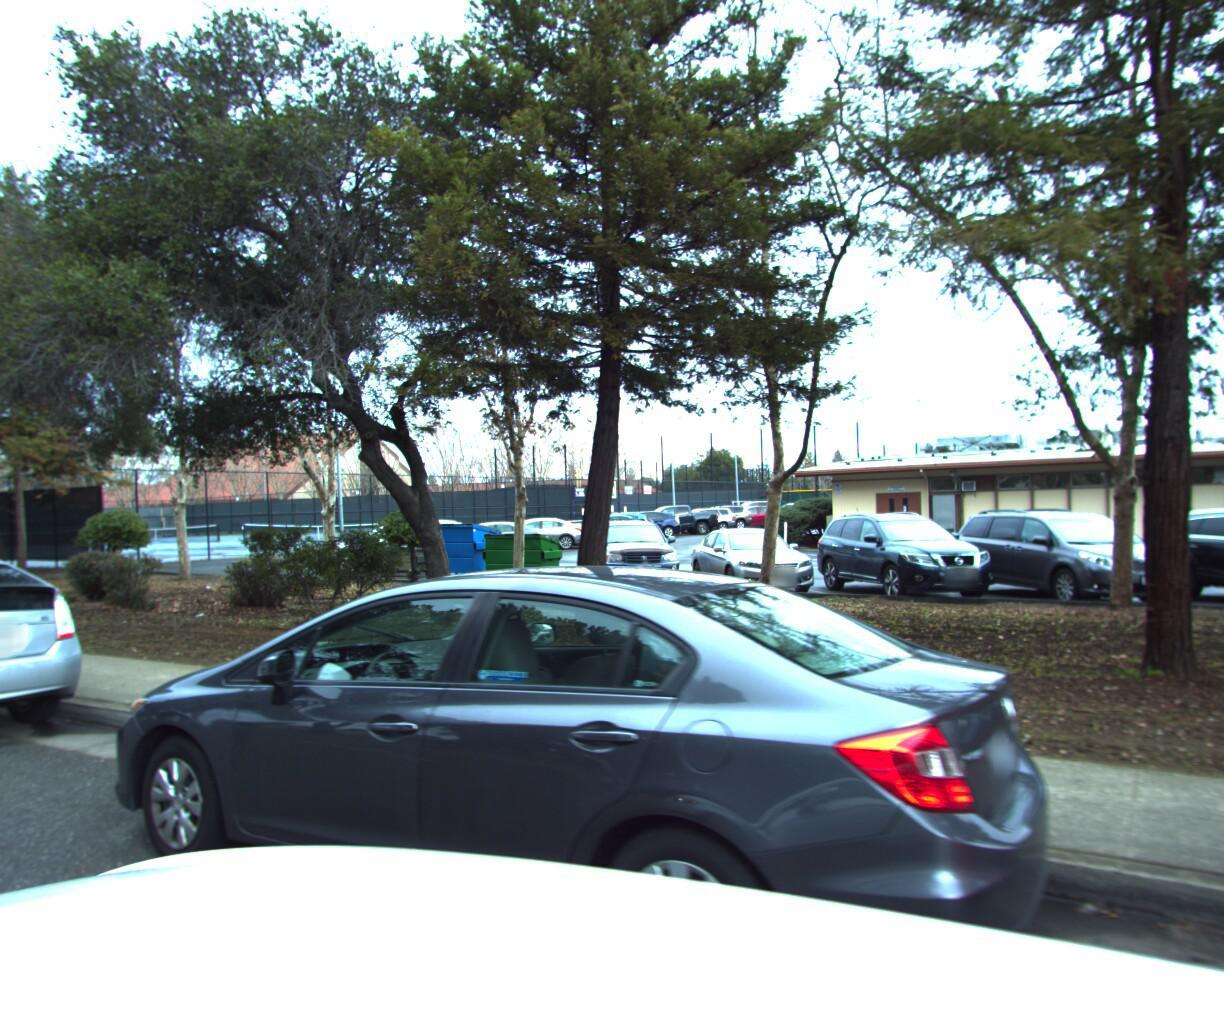car: (59, 544, 1065, 1024), (0, 536, 111, 794)
